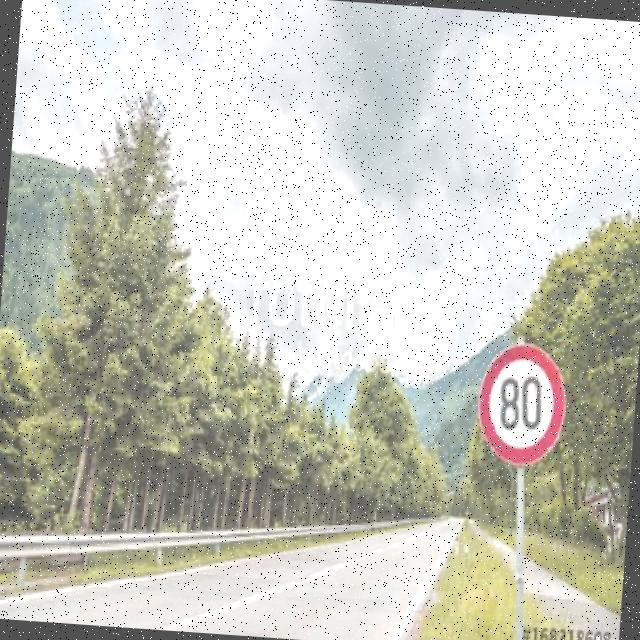Ograniczenie predkosci do 80: (468, 341, 578, 472)
